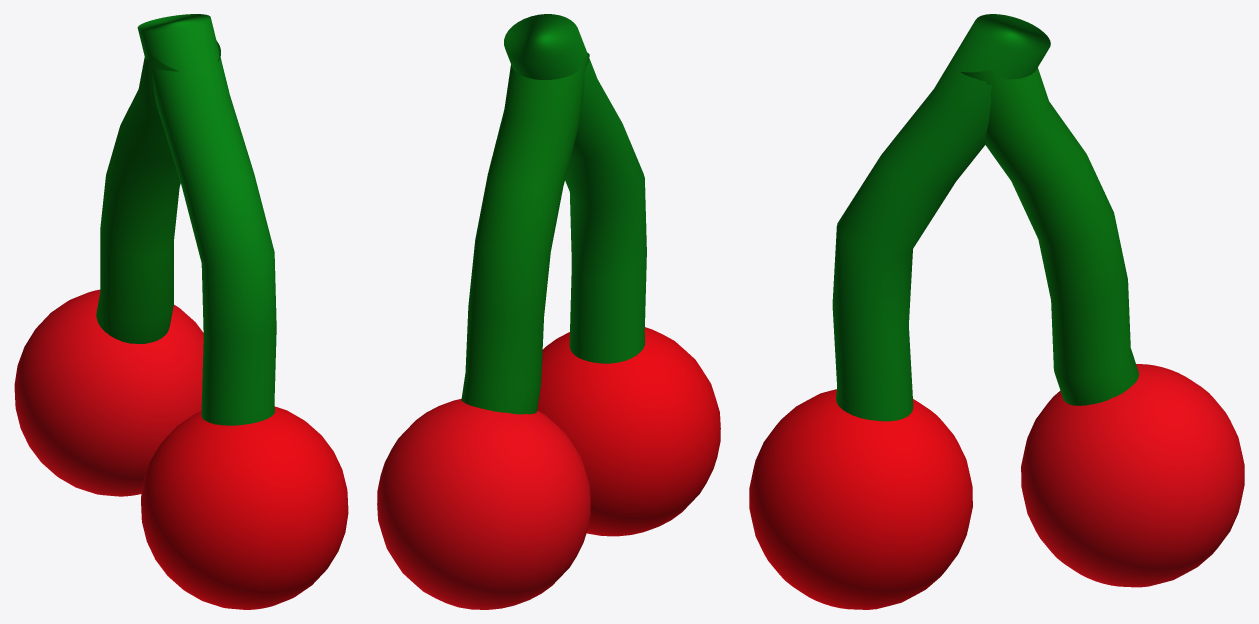
The model's file is cherry.fbx.
3 views of the same model, side by side, from view 1: azimuth 30°, elevation 25°; view 2: azimuth 150°, elevation 25°; view 3: azimuth 270°, elevation 25° (orthographic). The views are drawn at different scales.
Parts seen in each view (by area): view 1: Sphere, Cylinder, Sphere.001, Cylinder.001; view 2: Sphere.001, Cylinder.001, Sphere, Cylinder; view 3: Sphere.001, Sphere, Cylinder, Cylinder.001.
Boxes of the visible parts, x1,y1,x2,y2 form: Sphere: [141, 406, 348, 609]; Cylinder: [137, 14, 276, 425]; Sphere.001: [14, 289, 203, 496]; Cylinder.001: [96, 40, 220, 343]; Sphere.001: [377, 398, 590, 609]; Cylinder.001: [461, 52, 589, 414]; Sphere: [537, 327, 720, 536]; Cylinder: [504, 14, 646, 363]; Sphere.001: [1021, 364, 1244, 587]; Sphere: [749, 389, 972, 609]; Cylinder: [832, 14, 1050, 421]; Cylinder.001: [960, 67, 1138, 405].
Bounding box in the file's own units: 54.9 × 155 × 121.
